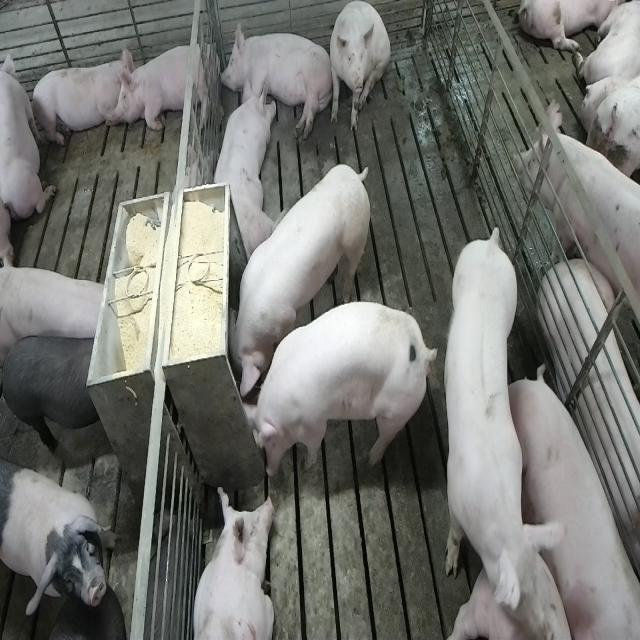Feeding: (235, 301, 437, 482), (228, 162, 376, 396)
Lateral_lying: (510, 368, 640, 640), (218, 20, 334, 142)
Sitting: (328, 2, 390, 134)
Standing: (440, 225, 540, 632), (516, 102, 640, 346), (2, 465, 112, 616), (3, 330, 111, 468), (3, 263, 114, 361)
Sternal_lying: (191, 487, 277, 640), (209, 74, 273, 259), (2, 40, 56, 232), (28, 51, 132, 150), (117, 36, 215, 134)
